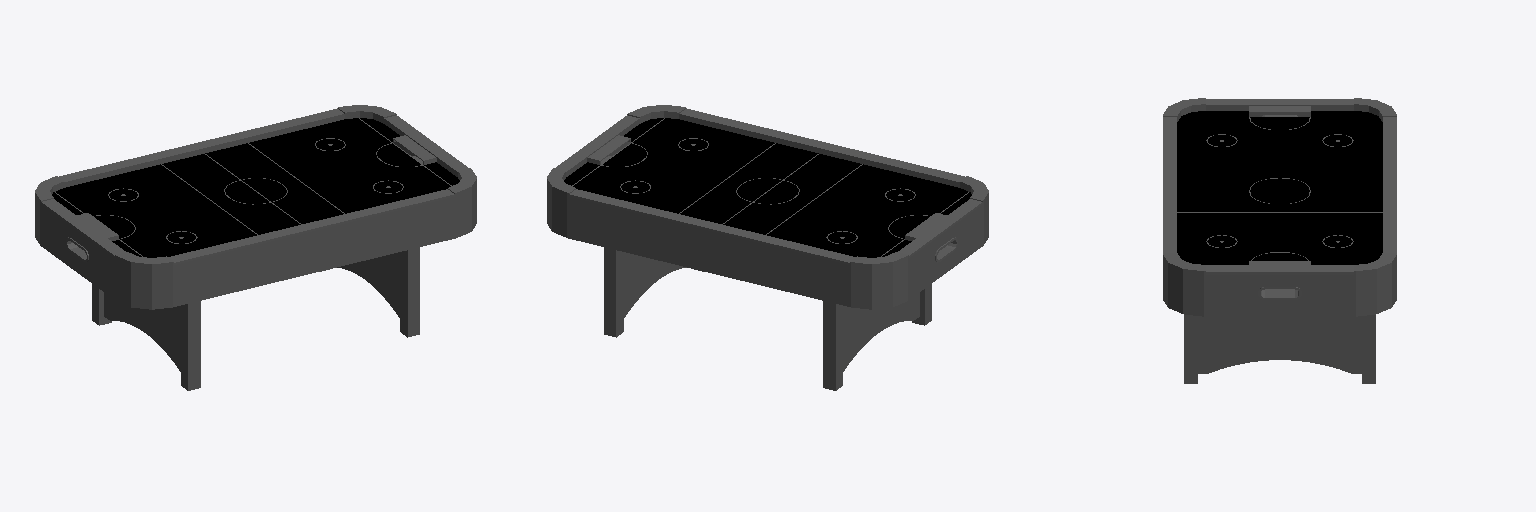
File: Airhockey5.obj
3 views of the same model, side by side, from view 1: azimuth 30°, elevation 25°; view 2: azimuth 150°, elevation 25°; view 3: azimuth 270°, elevation 25° (orthographic).
Parts seen in each view (by area): view 1: ID3.002_ID96.000; view 2: ID3.002_ID96.000; view 3: ID3.002_ID96.000.
Boxes of the visible parts, <box> form: ID3.002_ID96.000: <box>35,105,476,390</box>; ID3.002_ID96.000: <box>547,105,988,390</box>; ID3.002_ID96.000: <box>1163,98,1396,383</box>.
Size of the model in its own units: 29.69 by 11.33 by 16.86.